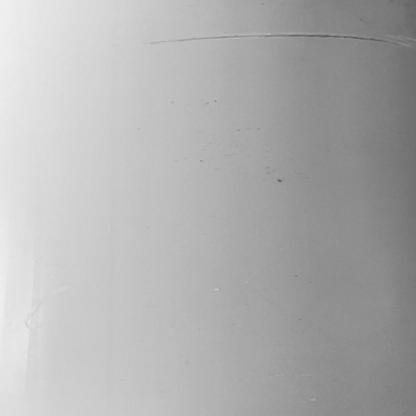sunshang: (145, 28, 416, 47)
